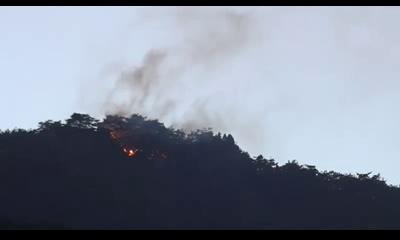smoke: (130, 61, 214, 127)
